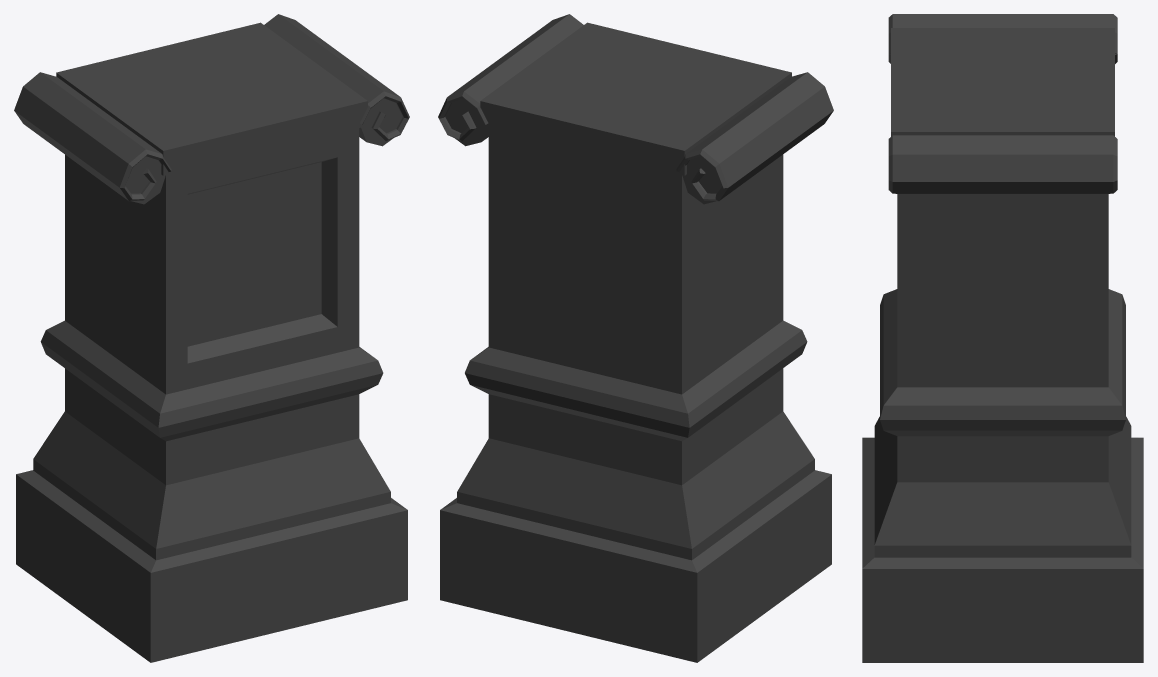
File: Pedestal.fbx
The picture shows the model from 3 angles, left to right: view 1: azimuth 30°, elevation 25°; view 2: azimuth 150°, elevation 25°; view 3: azimuth 270°, elevation 25°; orthographic projection. The views are drawn at different scales.
Parts seen in each view (by area): view 1: Pedestal; view 2: Pedestal; view 3: Pedestal.
Part boxes in pixels (box(x1,y1,x2,y2)): Pedestal: box(14, 14, 409, 662); Pedestal: box(438, 14, 833, 662); Pedestal: box(862, 14, 1143, 662).
Size of the model in its own units: 103 by 169 by 82.48.
